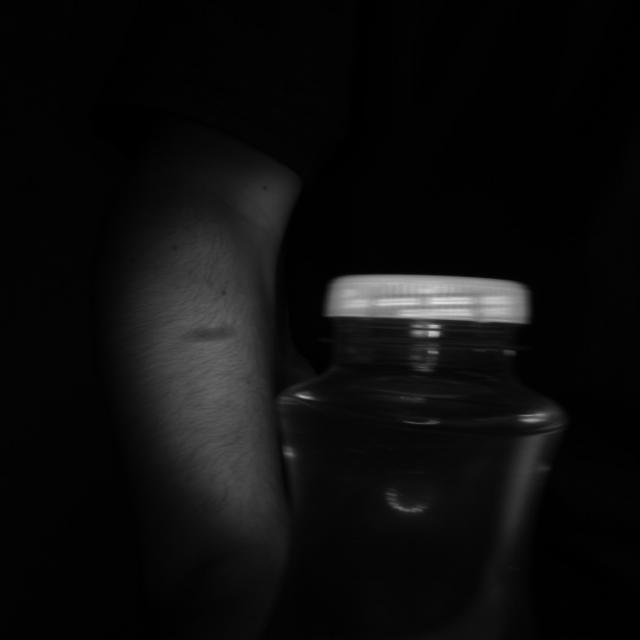Not Good: (327, 275, 529, 356)
